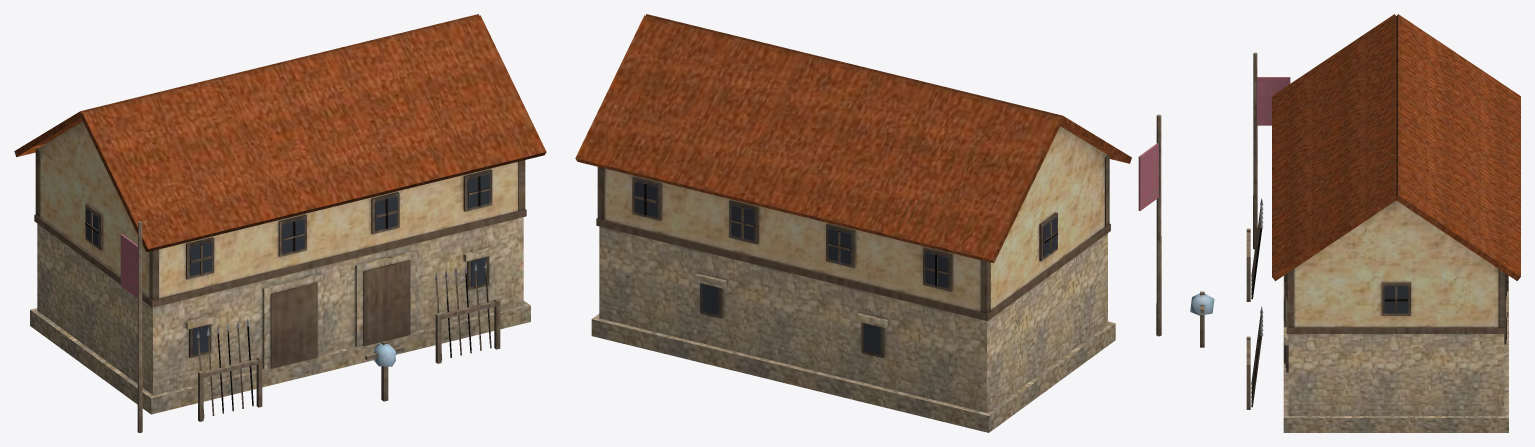
Rendered from barracks.glb.
3 views of the same model, side by side, from view 1: azimuth 30°, elevation 25°; view 2: azimuth 150°, elevation 25°; view 3: azimuth 270°, elevation 25° (orthographic). The views are drawn at different scales.
Visible parts, largest first — view 1: barracks; view 2: barracks; view 3: barracks.
Boxes of the visible parts, x1,y1,x2,y2 form: barracks: (14, 14, 546, 432); barracks: (575, 14, 1161, 432); barracks: (1190, 14, 1520, 432).
Bounding box in the file's own units: 13.51 × 8.07 × 9.97.
2 materials, 1 textured.
